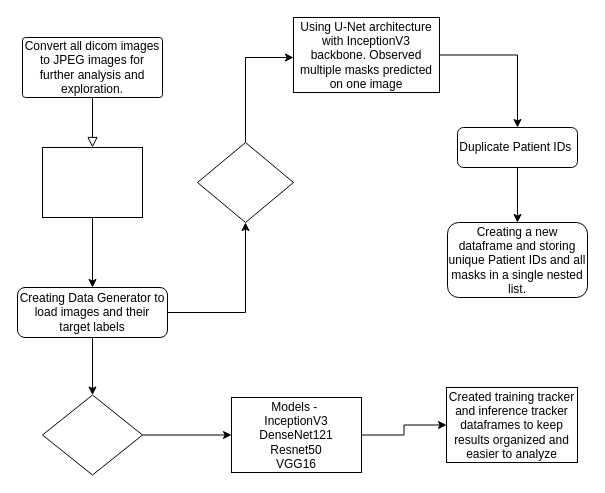
The diagram is 605 pixels wide and 493 high, and some of its shapes have lost their labels. The shapes that lost their labels are listed below. From the top down, each one's centre as x and y in pixels, then its label:
At pixel 92 182: "Merging both datasets, train labels and class info".
At pixel 245 182: "Segmentation".
At pixel 92 434: "Classification".
